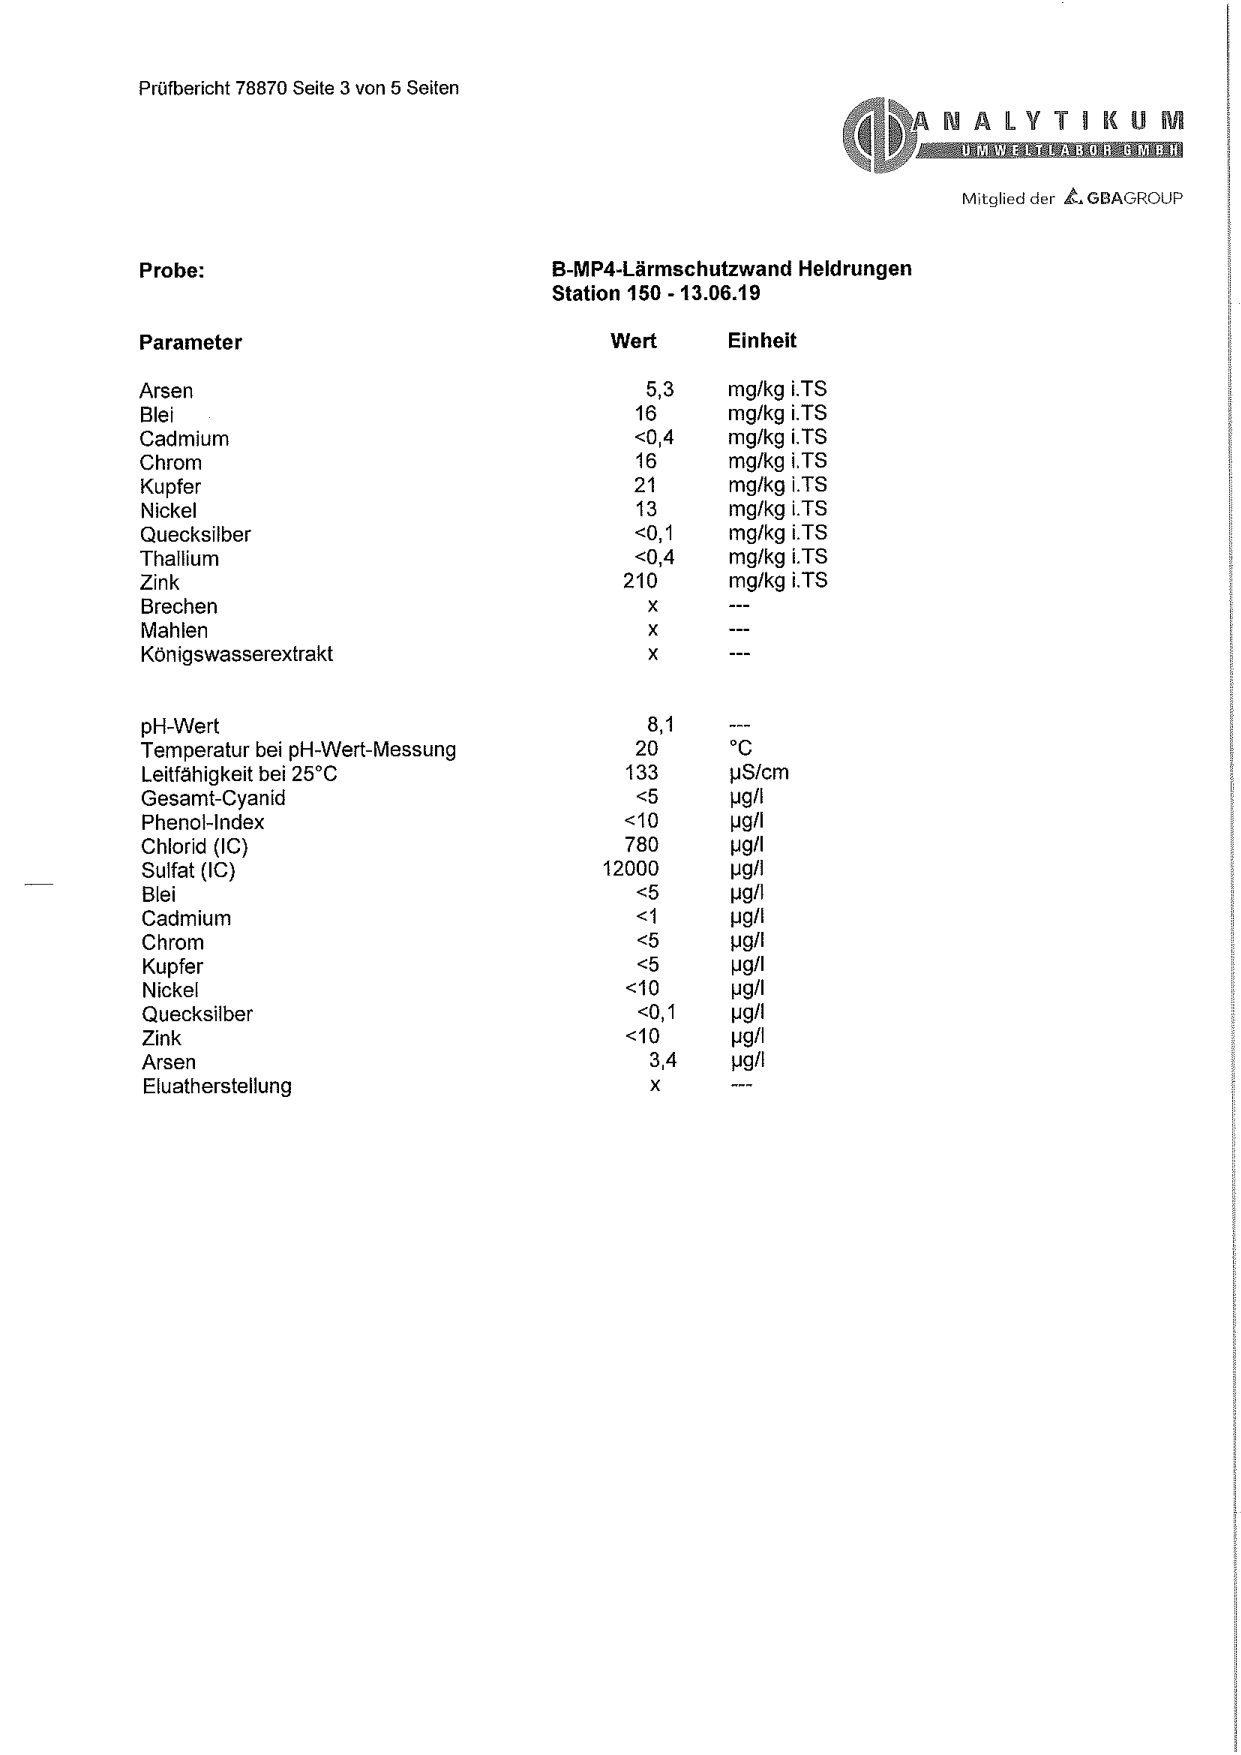table: (133, 710, 796, 1098), (132, 377, 838, 667)
